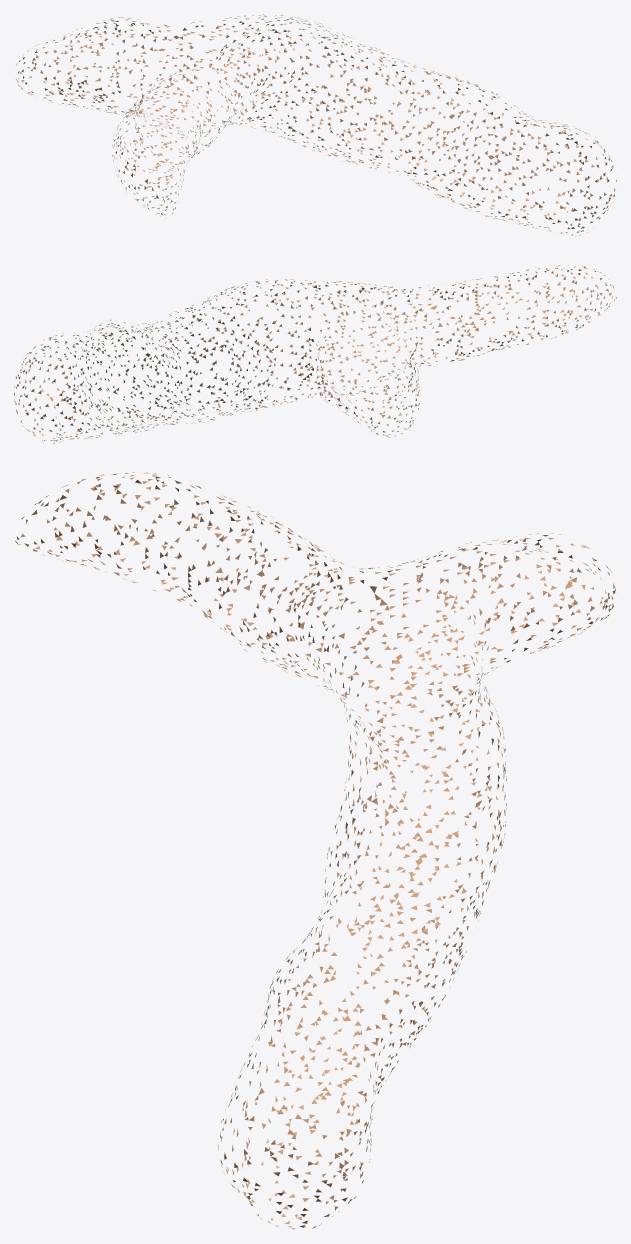
The model's file is morph_005.glb.
The picture shows the model from 3 angles, top to bottom: view 1: azimuth 30°, elevation 25°; view 2: azimuth 150°, elevation 25°; view 3: azimuth 270°, elevation 25°; orthographic projection. The views are drawn at different scales.
Bounding box in the file's own units: 107 × 48.94 × 67.24.
